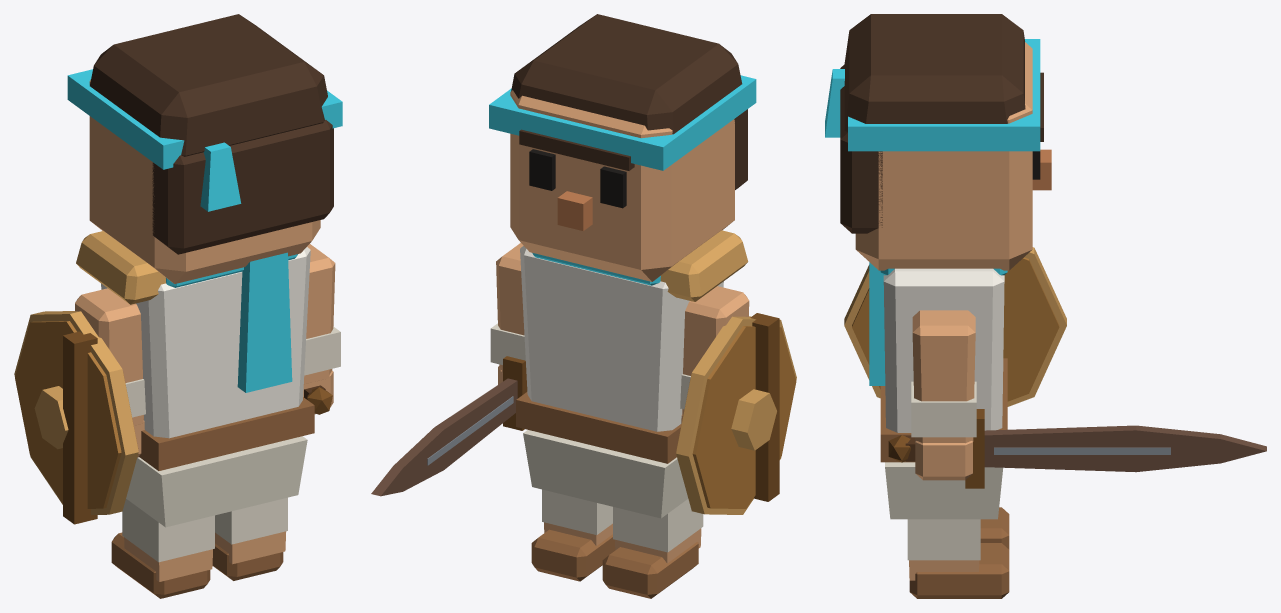
File: CH_Nobody_Freedman.fbx
3 renders of one model, left to right at view 1: azimuth 30°, elevation 25°; view 2: azimuth 150°, elevation 25°; view 3: azimuth 270°, elevation 25°, orthographic. The views are drawn at different scales.
Parts seen in each view (by area): view 1: Hair, Body, HairBack, Head, Loincloth, Shield, ScarfTail, Belt, ShieldPlank, ShieldRim, Headband, Pauldron (+13 smaller); view 2: Body, Head, Hair, Shield, Loincloth, Headband, Blade, Belt, ShieldRim, ShieldPlank, Pauldron, FootL (+17 smaller); view 3: Head, Hair, Body, Blade, Headband, Shield, ArmR, Loincloth, HairBack, FootR, ShinR, WrapR (+10 smaller).
Part boxes in pixels (x1,y1,x2,y2): Hair: (90,14,327,156); Body: (101,247,310,438); HairBack: (152,120,333,254); Head: (89,79,320,283); Loincloth: (126,436,307,527); Shield: (15,321,138,508); ScarfTail: (237,252,292,392); Belt: (139,397,314,470); ShieldPlank: (63,331,97,524); ShieldRim: (14,311,138,514); Headband: (67,69,342,169); Pauldron: (76,231,165,304); Body: (520,245,723,431); Head: (510,90,734,281); Hair: (511,14,742,134); Shield: (677,326,796,508); Loincloth: (523,430,688,518); Headband: (489,75,756,170); Blade: (371,378,517,496); Belt: (516,392,681,463); ShieldRim: (676,316,796,514); ShieldPlank: (750,313,779,501); Pauldron: (660,230,748,301); FootL: (602,542,698,598); Head: (855,42,1032,270); Hair: (844,14,1025,132); Body: (883,268,1004,432); Blade: (984,425,1266,472); Headband: (848,39,1040,151); Shield: (852,257,1059,401); ArmR: (912,310,975,443); Loincloth: (885,462,1003,519); HairBack: (840,64,882,233); FootR: (909,543,1009,598); ShinR: (907,519,980,560); WrapR: (911,381,976,437).
Bounding box in the file's own units: 0.81 × 1.15 × 1.51.
